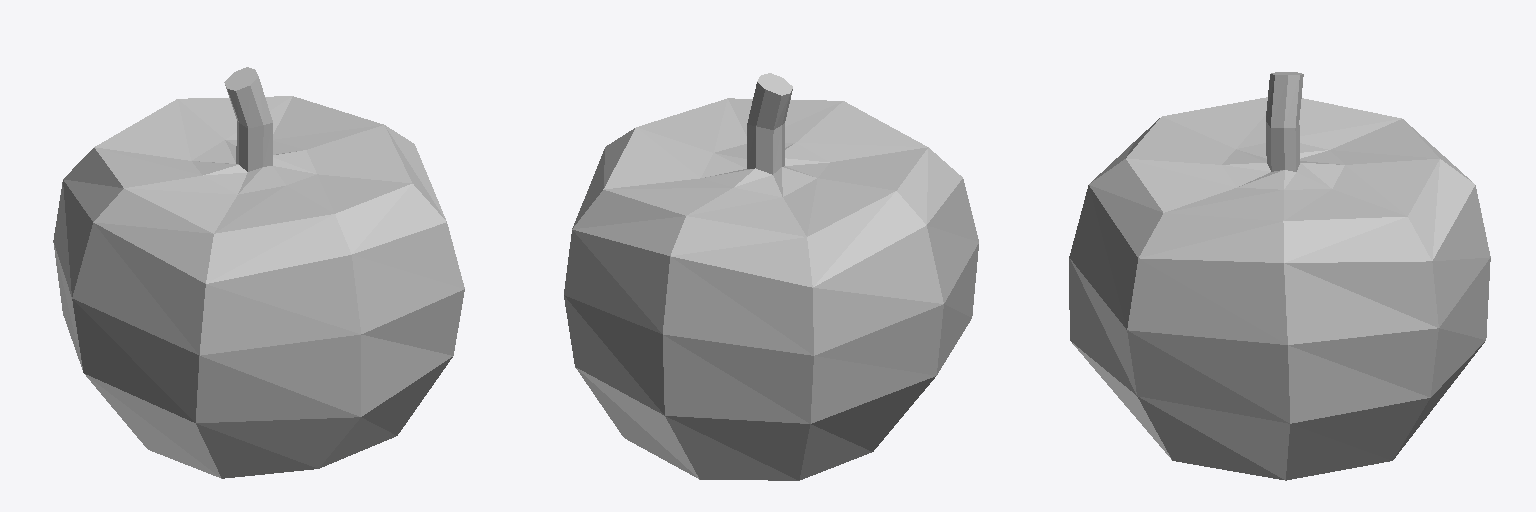
The model's file is Apple.obj.
The picture shows the model from 3 angles: view 1: azimuth 30°, elevation 25°; view 2: azimuth 150°, elevation 25°; view 3: azimuth 270°, elevation 25°; orthographic projection.
Parts seen in each view (by area): view 1: Apple; view 2: Apple; view 3: Apple.
Part boxes in pixels (x1,y1,x2,y2): Apple: (53, 67, 464, 478); Apple: (564, 73, 978, 480); Apple: (1069, 72, 1490, 480).
Size of the model in its own units: 3.45 by 3.35 by 3.5.